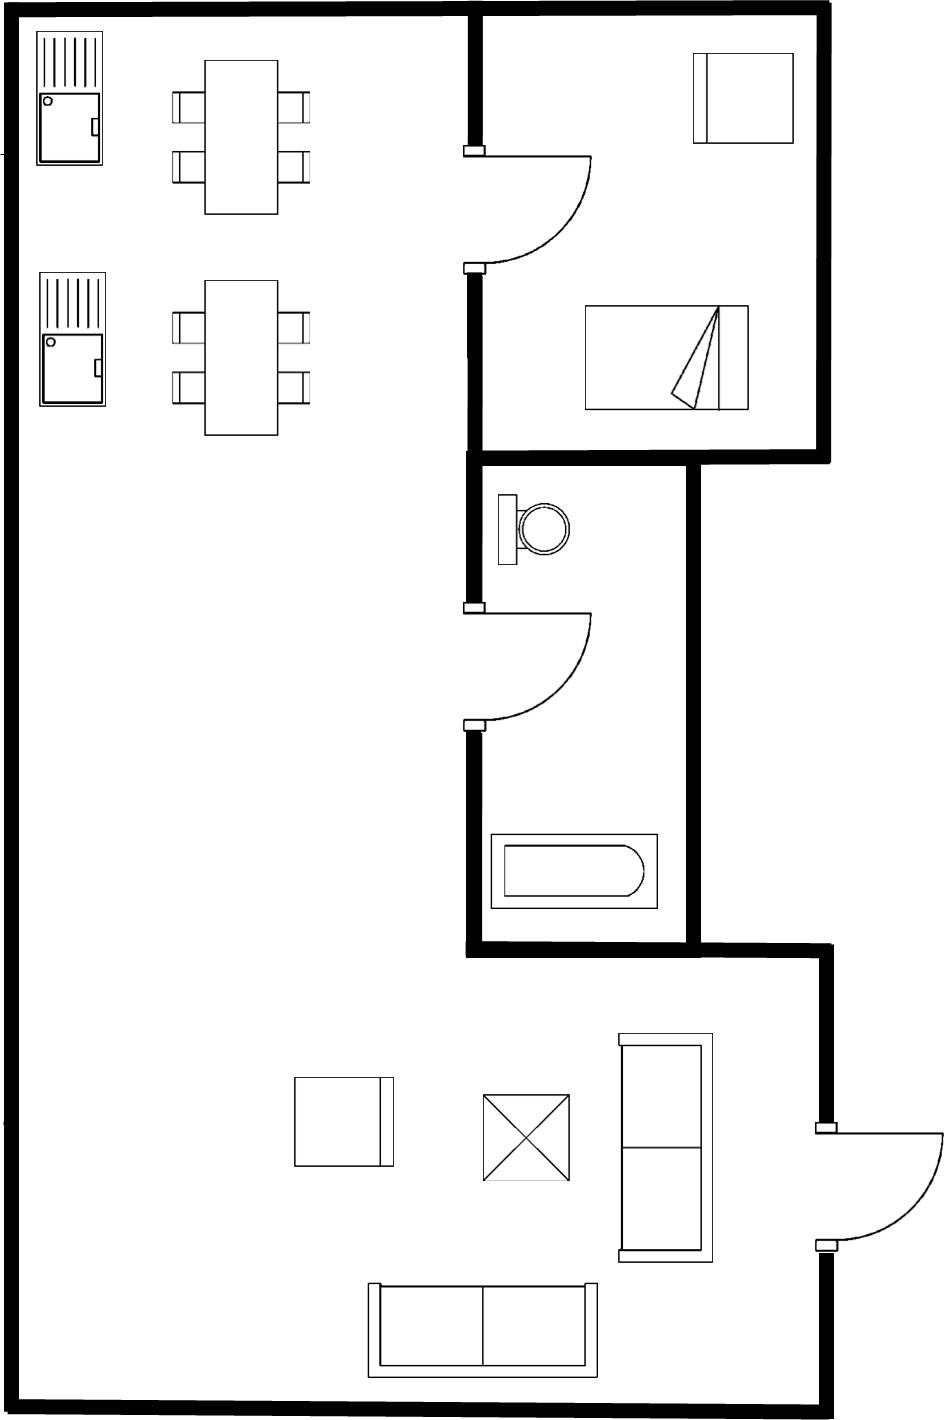bed: (574, 293, 758, 418)
coffee_table: (476, 1086, 576, 1186)
dining_table: (160, 53, 320, 225), (166, 271, 320, 446)
large_sink: (488, 487, 577, 576)
large_sofa: (608, 1024, 720, 1274), (356, 1275, 605, 1387)
sink: (31, 265, 116, 418), (27, 24, 110, 175)
small_sofa: (681, 40, 806, 158), (285, 1068, 404, 1176)
tub: (485, 825, 667, 919)
